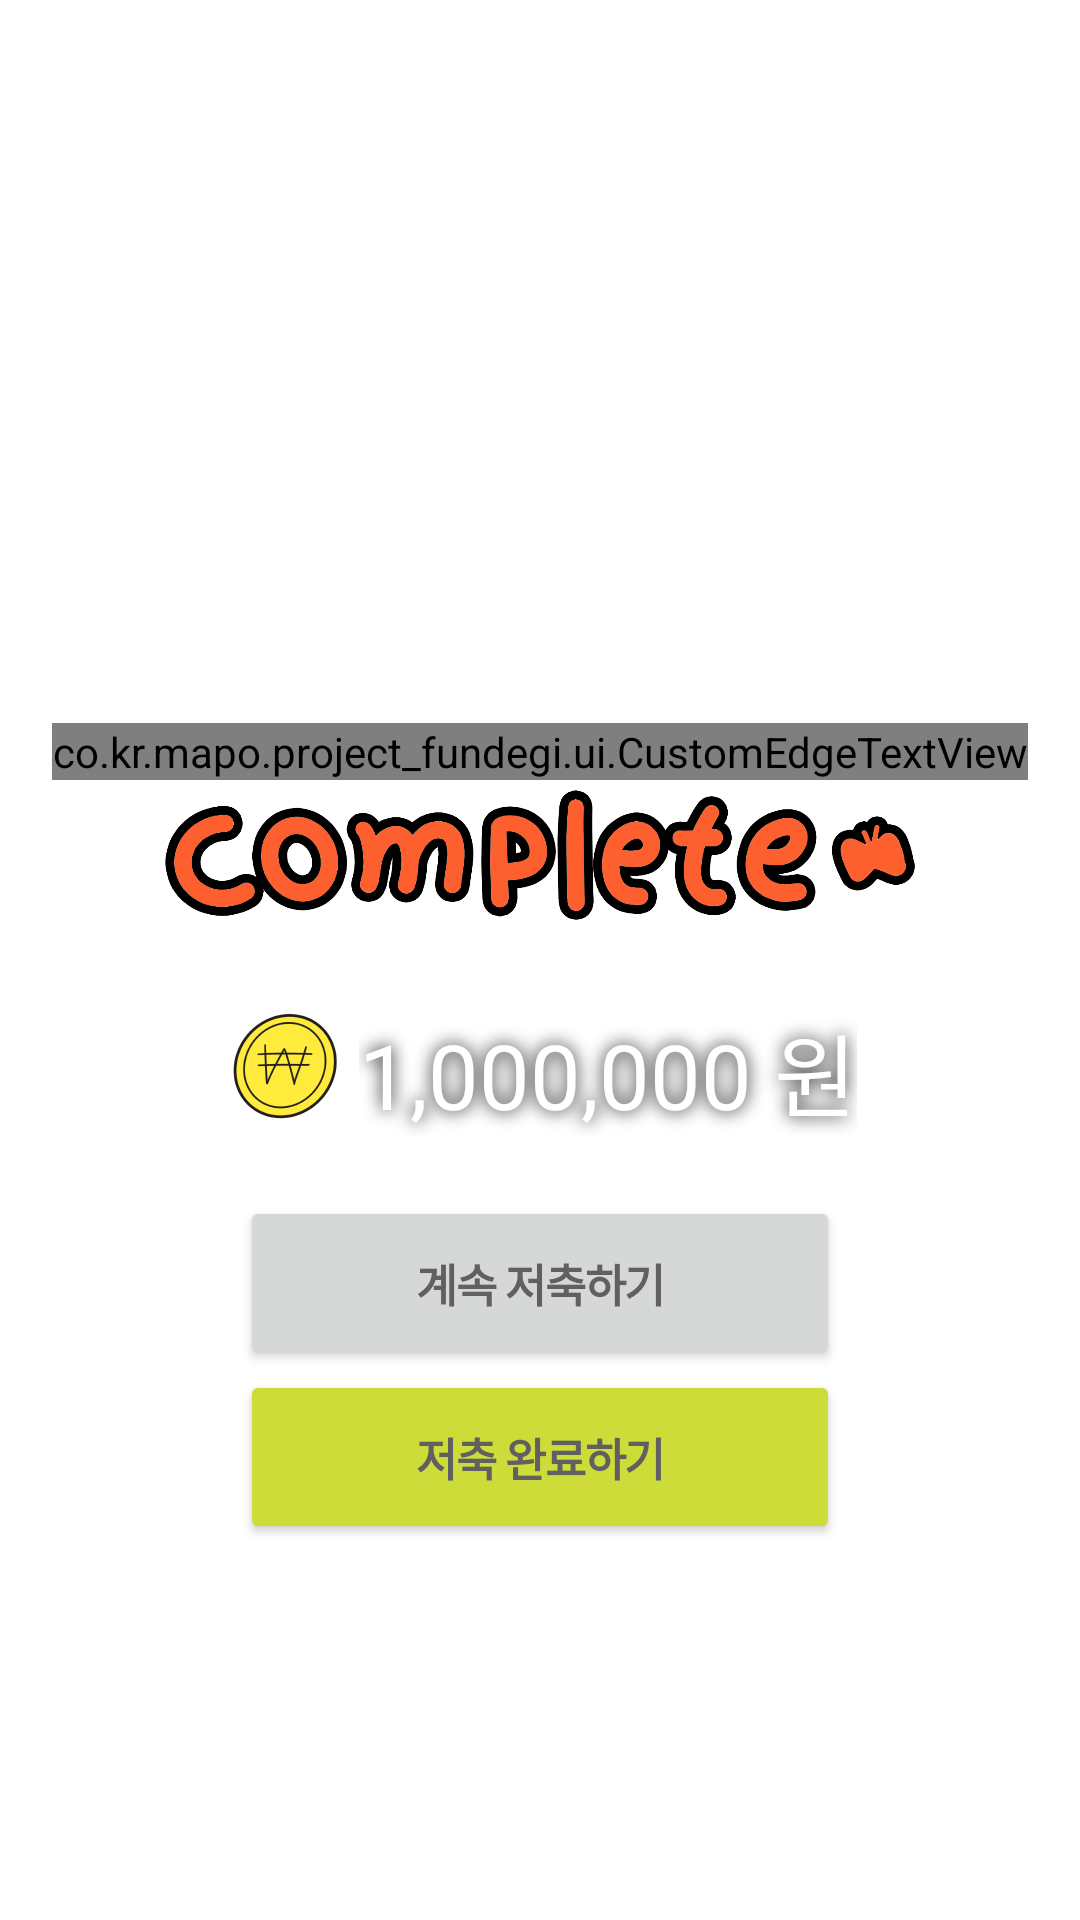

Screen size 1080w x 1920h. Icon name, then its center in pixels as point (x, y):
coin illust: point (285, 1066)
